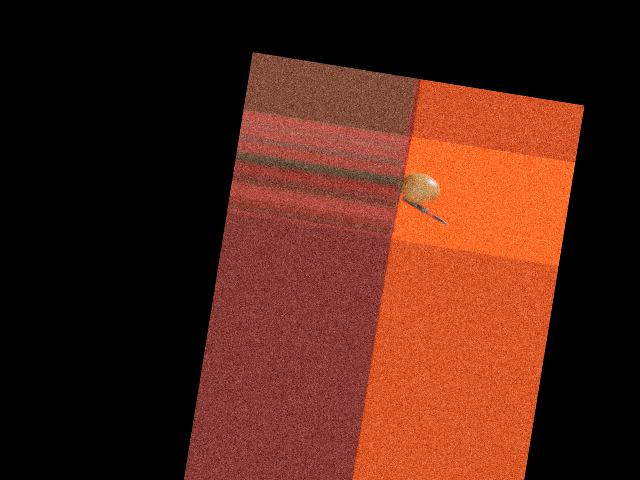egg: (399, 171, 441, 206)
